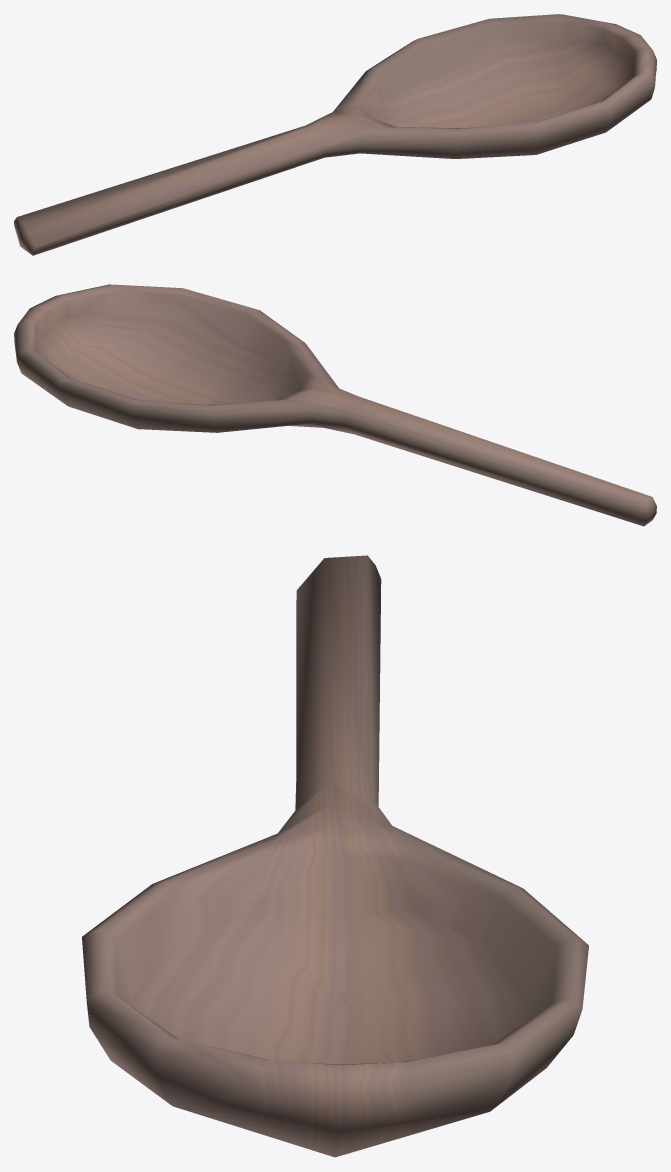
File: Bakery_Spoon_01.fbx
3 renders of one model, top to bottom at view 1: azimuth 30°, elevation 25°; view 2: azimuth 150°, elevation 25°; view 3: azimuth 270°, elevation 25°, orthographic. The views are drawn at different scales.
Parts seen in each view (by area): view 1: Bakery_Spoon_01; view 2: Bakery_Spoon_01; view 3: Bakery_Spoon_01.
Part boxes in pixels (x1,y1,x2,y2): Bakery_Spoon_01: (14, 14, 656, 255); Bakery_Spoon_01: (14, 284, 656, 526); Bakery_Spoon_01: (82, 555, 588, 1157).
Bounding box in the file's own units: 102 × 11.79 × 35.88.
